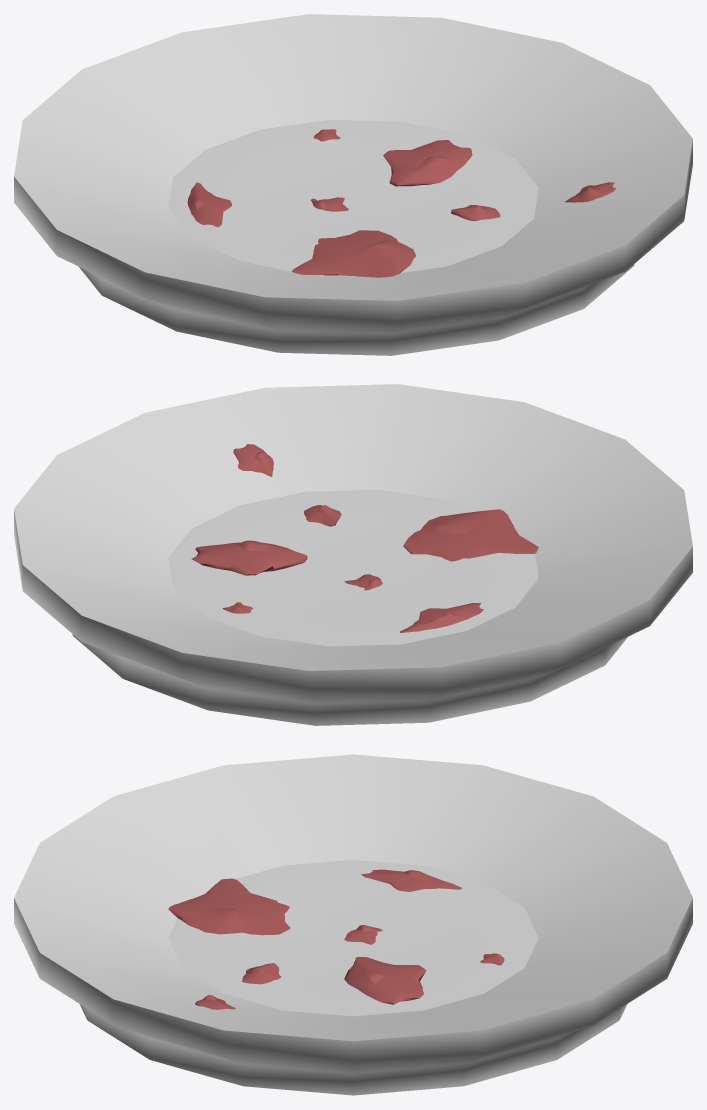
The model's file is DirtyPlate.fbx.
3 views of the same model, one above another, from view 1: azimuth 30°, elevation 25°; view 2: azimuth 150°, elevation 25°; view 3: azimuth 270°, elevation 25° (orthographic).
Visible parts, largest first — view 1: pCylinder9; view 2: pCylinder9; view 3: pCylinder9.
Part boxes in pixels (x1,y1,x2,y2): pCylinder9: (14,14,692,355); pCylinder9: (14,384,692,725); pCylinder9: (14,754,692,1095).
Size of the model in its own units: 1.05 by 0.1323 by 1.05.
